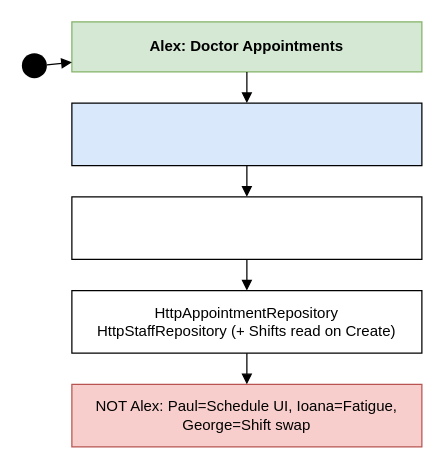
The diagram is 444 pixels wide and 469 high, and some of its shapes have lost their labels. Here are the shapes that lost their labels. From the top down, the centre of each, then its label:
the point at 246,134: DoctorAppointmentsController + DoctorAppointmentService
the point at 246,227: Index | Schedule | Details | Create | Edit | Delete
